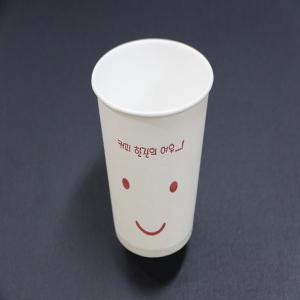Cup: (92, 39, 215, 259)
